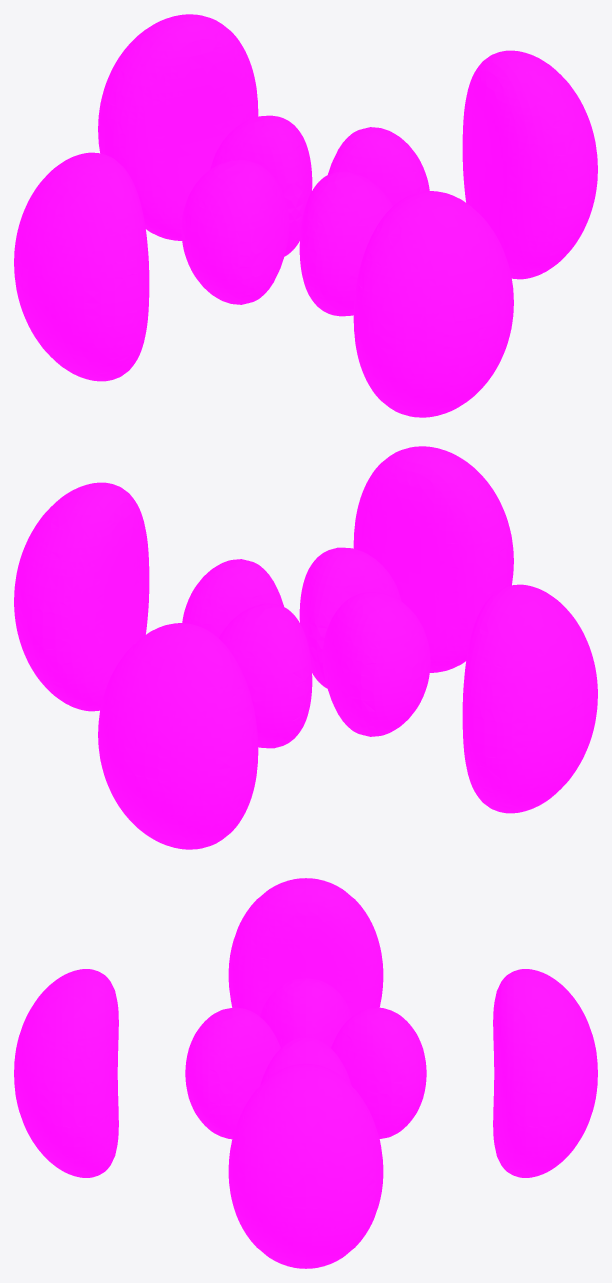
The model's file is 4dxy.glb.
The picture shows the model from 3 angles, top to bottom: view 1: azimuth 30°, elevation 25°; view 2: azimuth 150°, elevation 25°; view 3: azimuth 270°, elevation 25°; orthographic projection. The views are drawn at different scales.
Parts seen in each view (by area): view 1: 4dxy; view 2: 4dxy; view 3: 4dxy.
Part boxes in pixels (<box>): 4dxy: <box>14,14,597,417</box>; 4dxy: <box>14,446,597,849</box>; 4dxy: <box>14,878,597,1268</box>.
Bounding box in the file's own units: 29.7 × 11.14 × 29.7.
